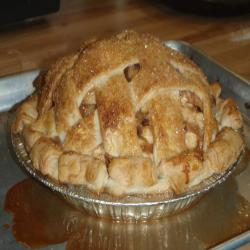apple_pie: (9, 27, 246, 236)
